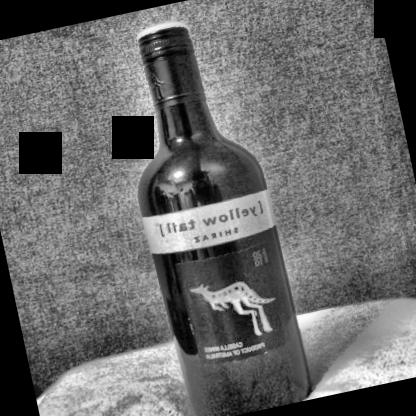yellowtail: (146, 188, 300, 372)
